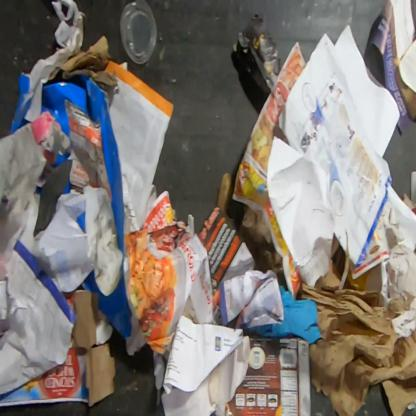cardboard: (7, 36, 124, 255), (294, 259, 415, 415), (0, 290, 117, 408), (224, 336, 312, 415)
rigid_plastic: (119, 0, 158, 66)
